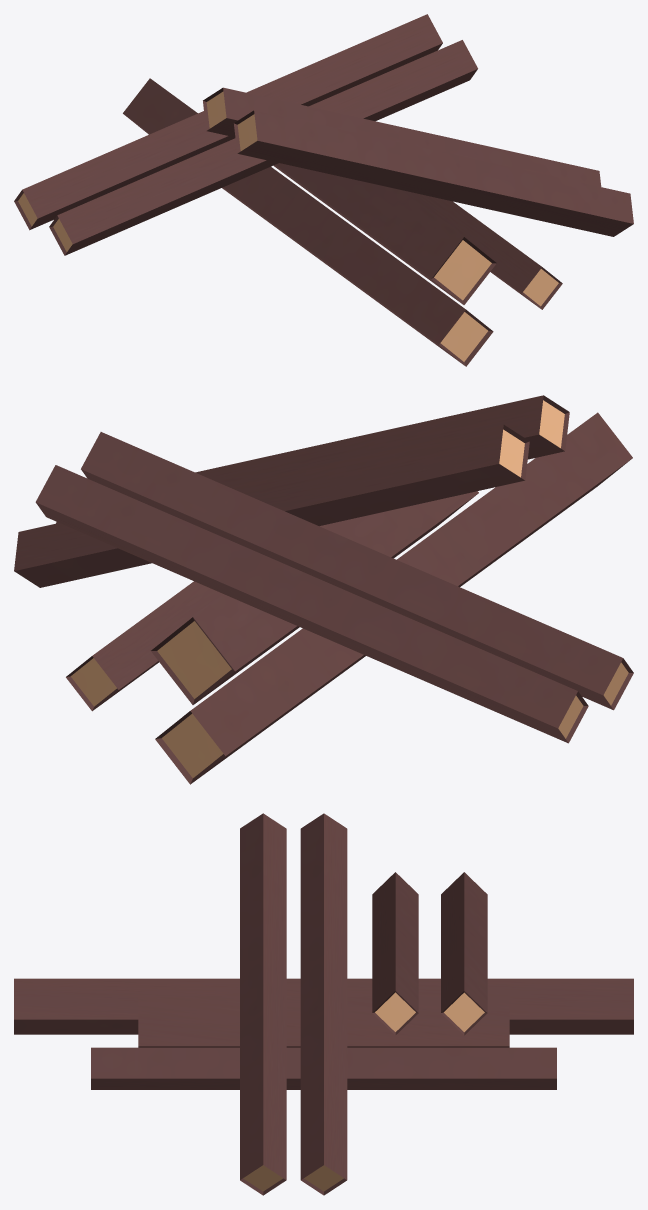
The model's file is Logs01.001.fbx.
3 renders of one model, top to bottom at view 1: azimuth 30°, elevation 25°; view 2: azimuth 150°, elevation 25°; view 3: azimuth 270°, elevation 25°, orthographic. The views are drawn at different scales.
Visible parts, largest first — view 1: Logs01.001; view 2: Logs01.001; view 3: Logs01.001.
Boxes of the visible parts, x1,y1,x2,y2 form: Logs01.001: [14, 14, 633, 366]; Logs01.001: [14, 395, 633, 784]; Logs01.001: [14, 813, 633, 1195].
Size of the model in its own units: 1542 by 625 by 1671.
